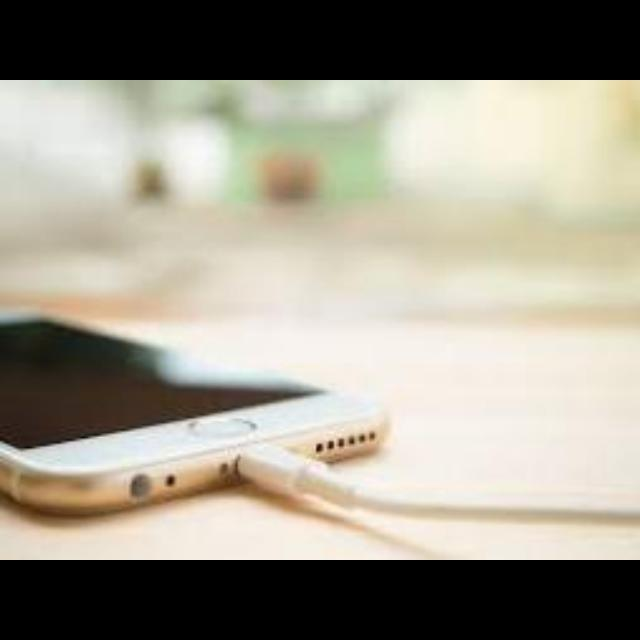PhoneUse: (0, 300, 414, 512)
